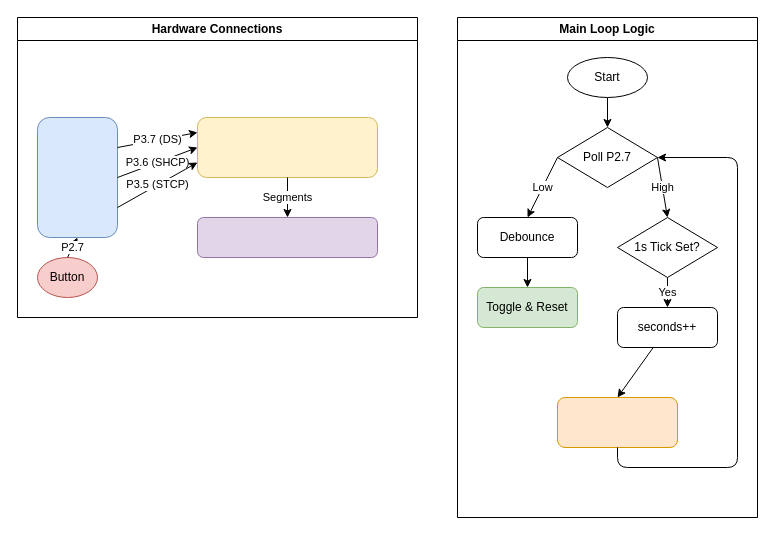
Some shapes in this 775 by 535 pixel diagram are drawn without their labels. The shapes that lost their labels are listed below. From the top down, each one's box as (x1, y1, x2, y2) in pixels, then its label:
(196, 116, 378, 178): 74HC595 x6 Chain
(36, 116, 118, 238): AT89S52
(196, 216, 378, 258): 6-Digit Display
(556, 396, 678, 448): Render & Shift 595
